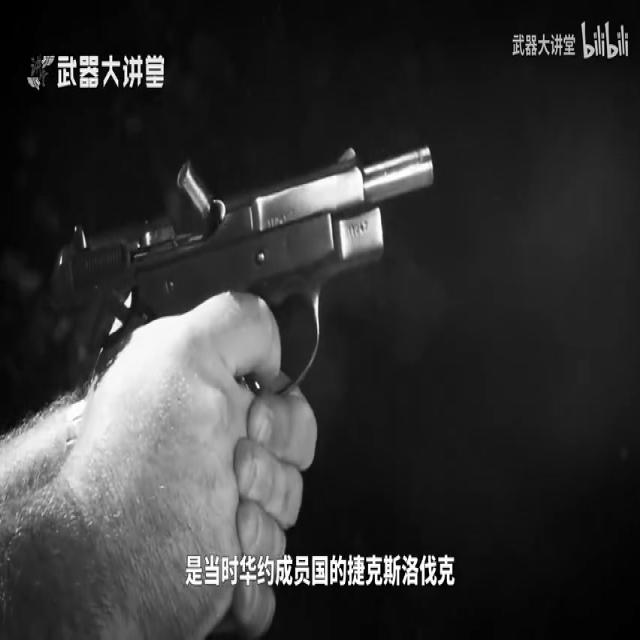Hand-Gun: (50, 139, 443, 417)
